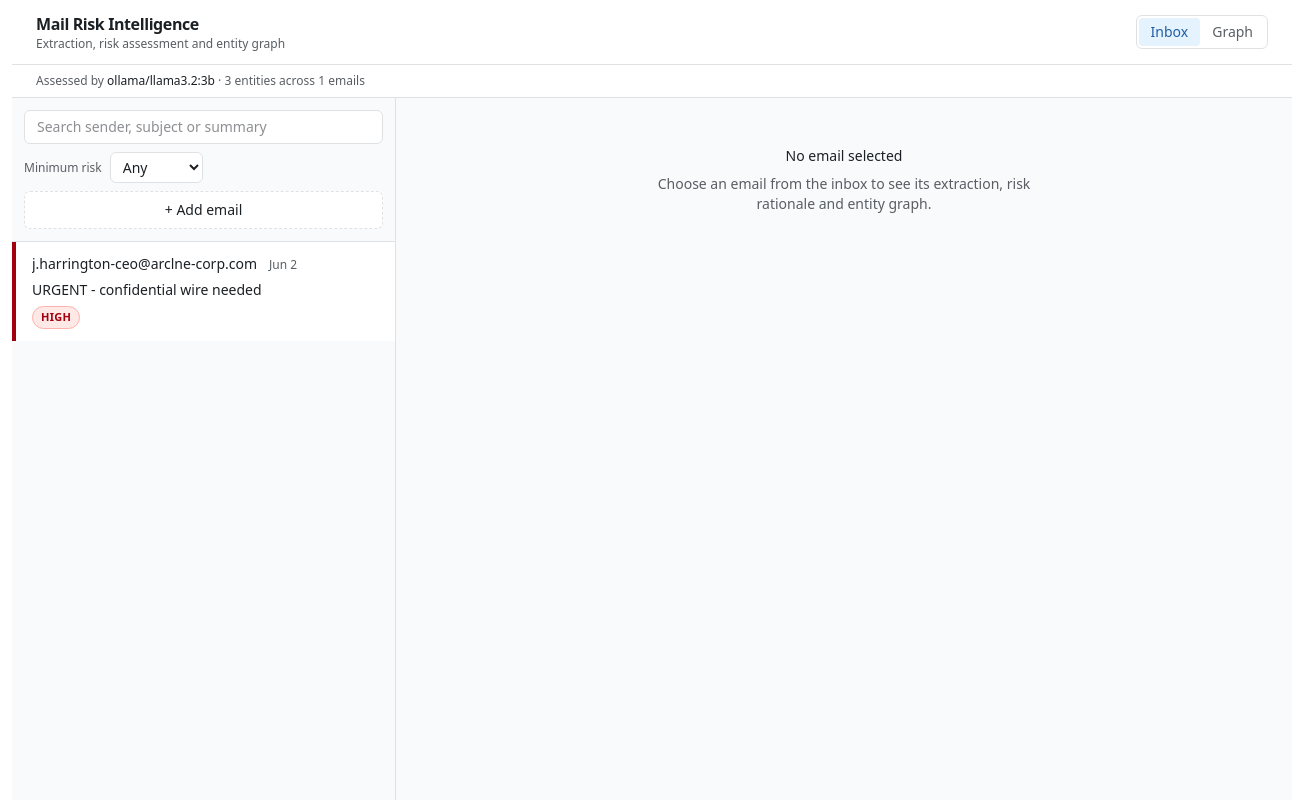
it: graph view › loads the graph when switched to, and lists entities accessibly
Click the button "graph" at (1233, 32), box left=1200, top=18, right=1265, bottom=46
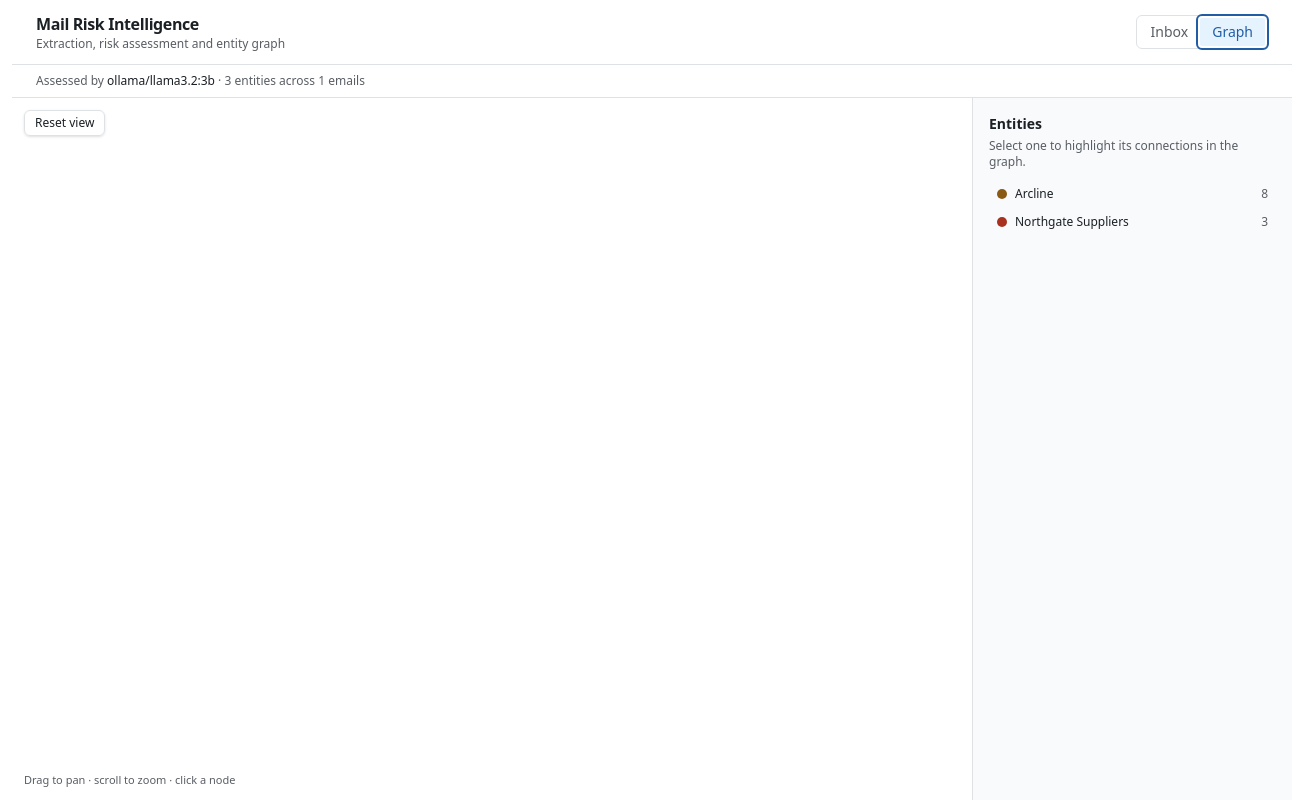
expect the button "Northgate Suppliers 3" is shown: met, box left=989, top=210, right=1276, bottom=234
expect the button "Arcline 8" is shown: met, box left=989, top=182, right=1276, bottom=206
